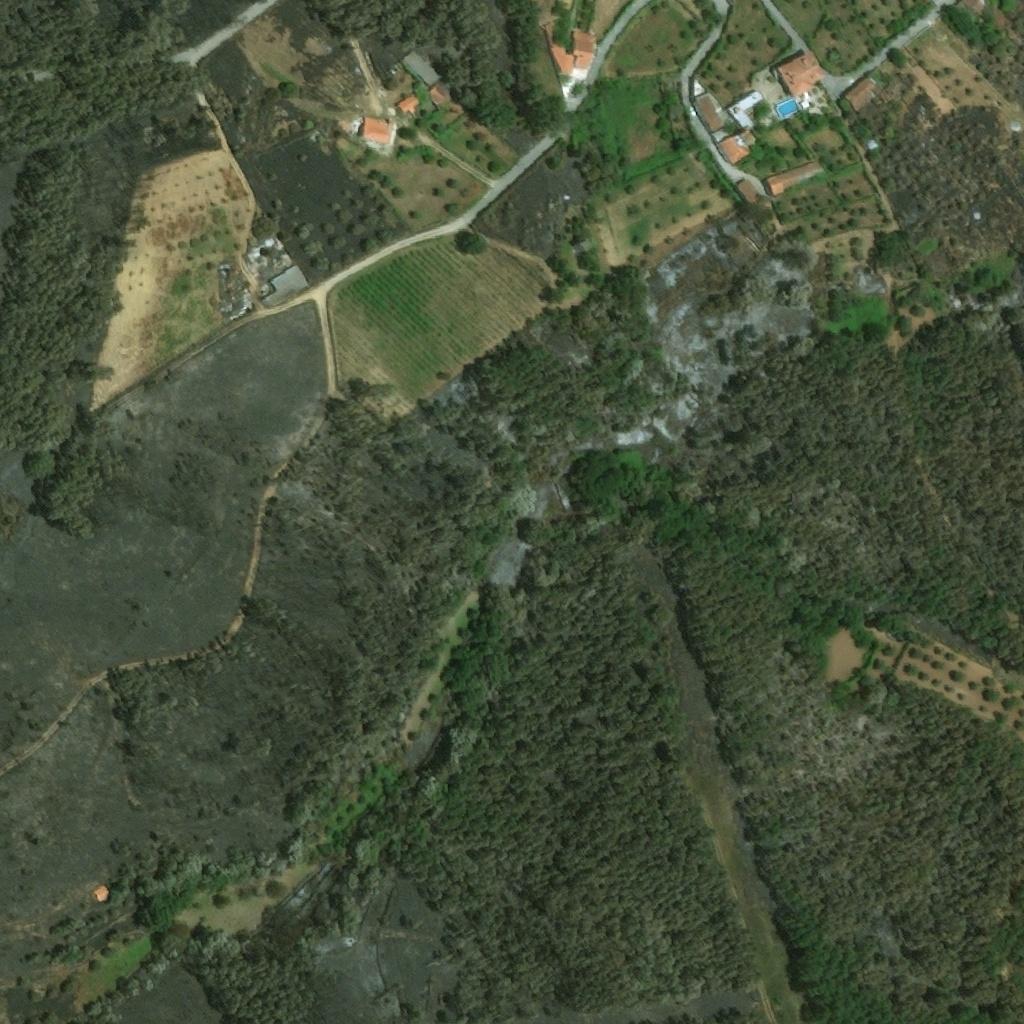0 no-damage: (543, 22, 596, 81), (774, 49, 828, 97), (764, 158, 827, 196), (398, 50, 441, 89), (844, 73, 884, 112), (727, 88, 765, 129), (690, 93, 726, 134), (717, 132, 753, 166), (358, 117, 397, 145), (951, 0, 986, 22), (733, 178, 761, 205), (394, 94, 421, 115), (425, 85, 449, 107), (93, 885, 111, 903), (739, 127, 757, 144), (927, 0, 943, 8)
1 minor-damage: (260, 267, 307, 309)
3 destroyed: (865, 137, 880, 151)
